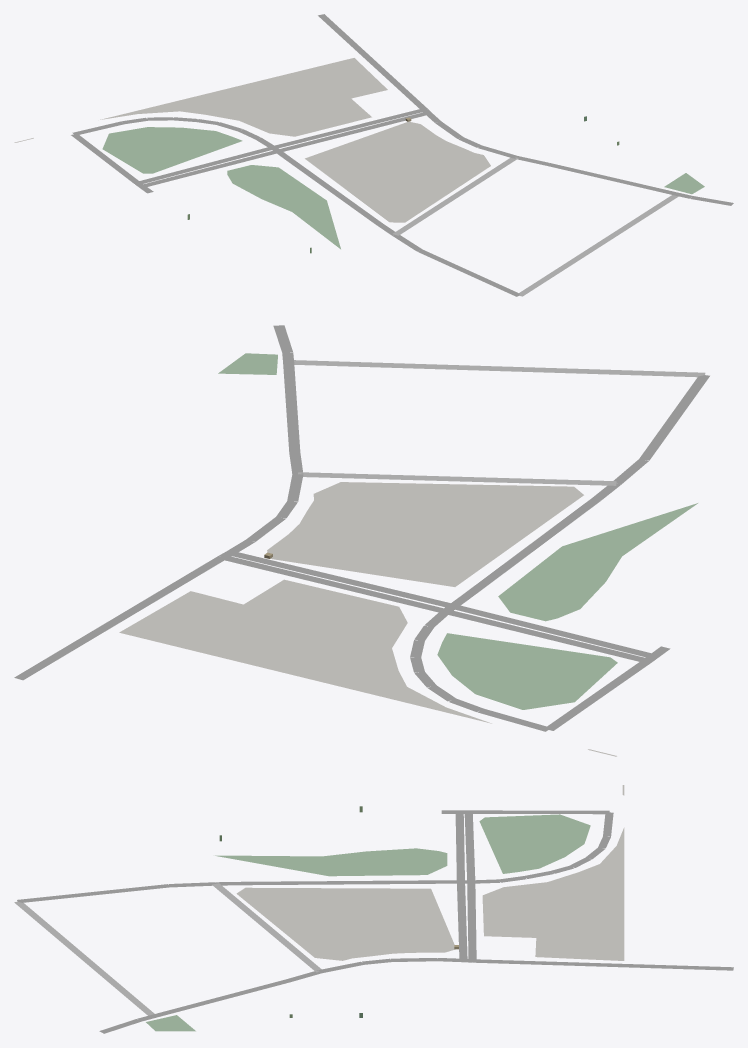
3 renders of one model, top to bottom at view 1: azimuth 30°, elevation 25°; view 2: azimuth 150°, elevation 25°; view 3: azimuth 270°, elevation 25°, orthographic. The views are drawn at different scales.
Bounding box in the file's own units: 505 × 6.76 × 616.
